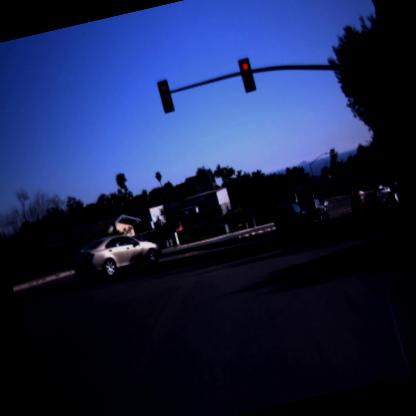trafficlight: (233, 53, 261, 101), (155, 76, 181, 117)
